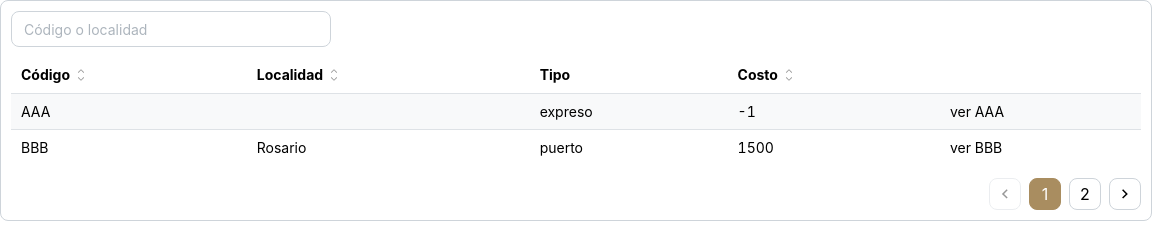
Scenario: DataTable con buscador › vuelve a la primera página al buscar
The image size is (1152, 238).
Click the button "2".
click(1085, 194)  # box [1069,178,1101,210]
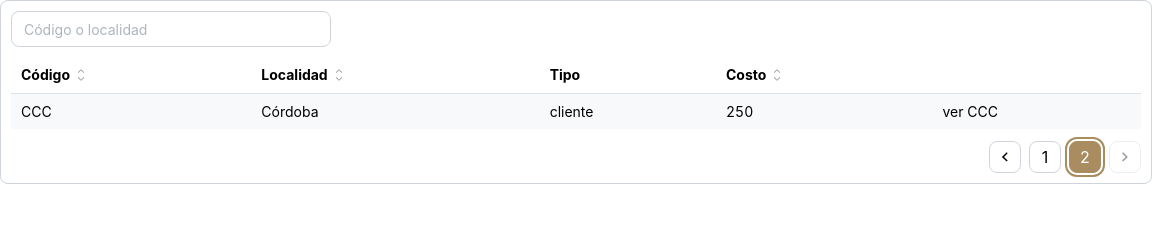
Expected: the text "CCC" is shown, [11,93,251,129]
Type "rosario" into the field named "Buscar en la tabla".
click(171, 29); type("rosario")  # box [11,11,331,47]
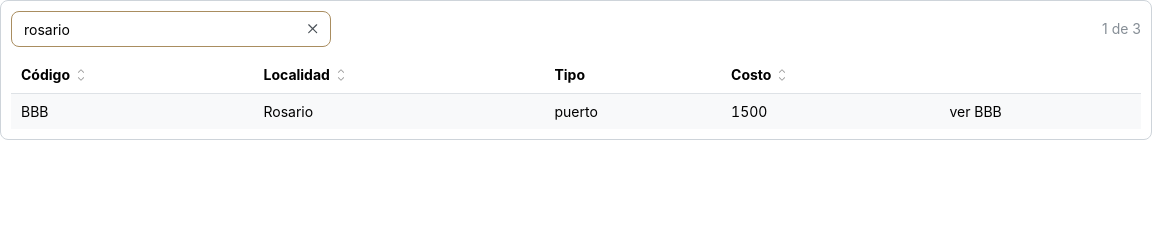
Expected: the text "BBB" is shown, [11,93,254,129]
